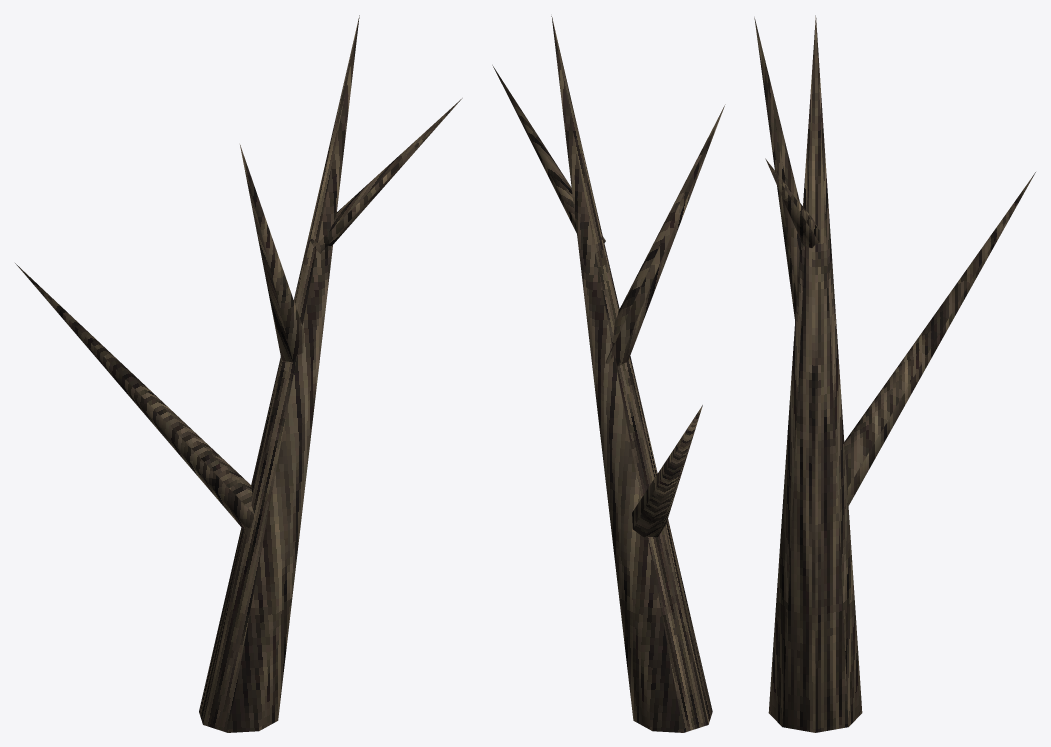
Rendered from DEADTREE_ACTORDEF.fbx.
3 views of the same model, side by side, from view 1: azimuth 30°, elevation 25°; view 2: azimuth 150°, elevation 25°; view 3: azimuth 270°, elevation 25° (orthographic). The views are drawn at different scales.
Visible parts, largest first — view 1: U3DMesh; view 2: U3DMesh; view 3: U3DMesh.
Part boxes in pixels (x1,y1,x2,y2): U3DMesh: [15, 15, 462, 732]; U3DMesh: [492, 16, 725, 732]; U3DMesh: [754, 15, 1035, 732].
Size of the model in its own units: 28.42 by 55.31 by 18.48.
